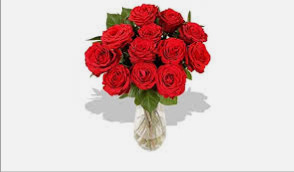RedRose: (82, 39, 119, 71), (103, 65, 135, 101), (150, 34, 187, 64), (155, 66, 189, 97), (132, 58, 157, 93), (186, 41, 212, 71), (183, 11, 208, 41), (99, 25, 133, 47), (154, 8, 186, 30), (129, 34, 155, 61), (129, 2, 157, 24), (138, 22, 165, 40)
